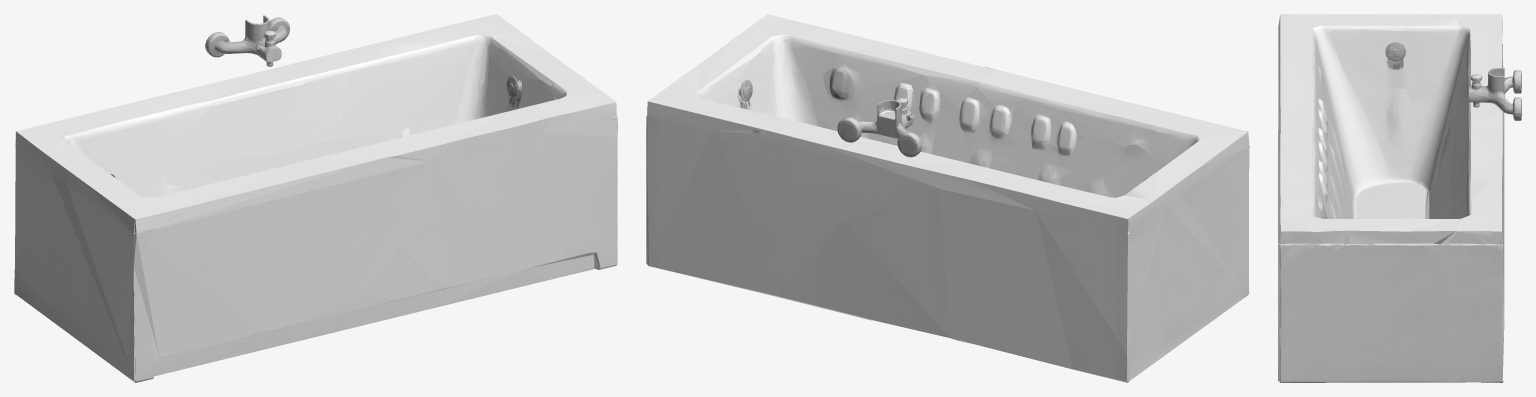
Rendered from bathtub.glb.
3 renders of one model, left to right at view 1: azimuth 30°, elevation 25°; view 2: azimuth 150°, elevation 25°; view 3: azimuth 270°, elevation 25°, orthographic. The views are drawn at different scales.
Bounding box in the file's own units: 1.9 × 0.8206 × 0.8967.
Materials: 1 (1 with a texture image).
